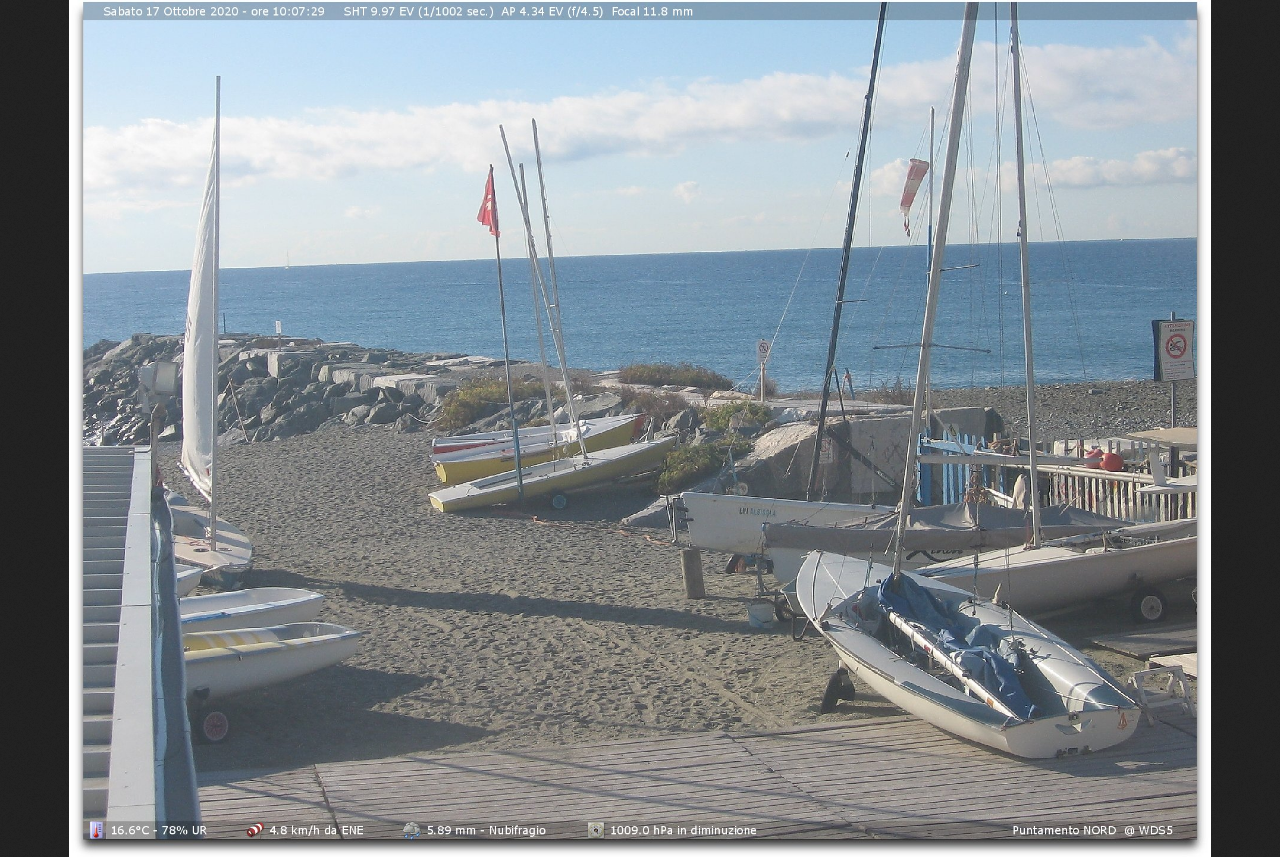no: (475, 170, 501, 237)
